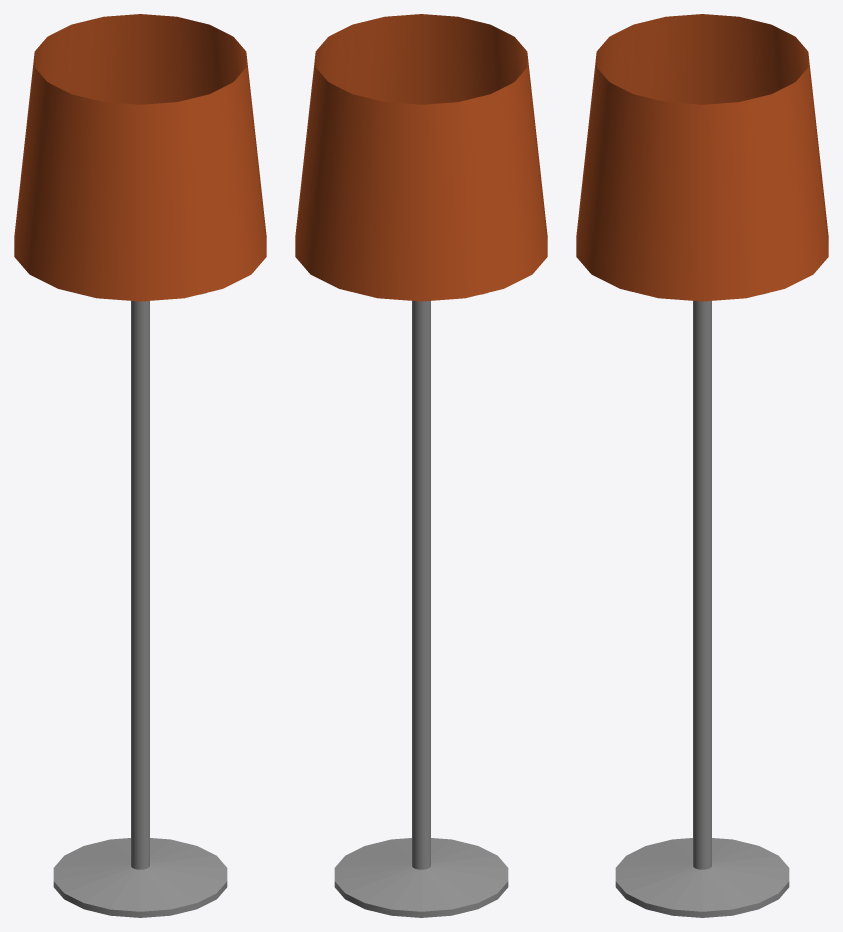
The model's file is Lamp_Tall.FBX.
3 views of the same model, side by side, from view 1: azimuth 30°, elevation 25°; view 2: azimuth 150°, elevation 25°; view 3: azimuth 270°, elevation 25° (orthographic).
Parts seen in each view (by area): view 1: Lamp_Tall; view 2: Lamp_Tall; view 3: Lamp_Tall.
Part boxes in pixels (x1=…): Lamp_Tall: x1=14, y1=14, x2=266, y2=917; Lamp_Tall: x1=295, y1=14, x2=547, y2=917; Lamp_Tall: x1=576, y1=14, x2=828, y2=917.
Size of the model in its own units: 21.54 by 76.09 by 21.21.
